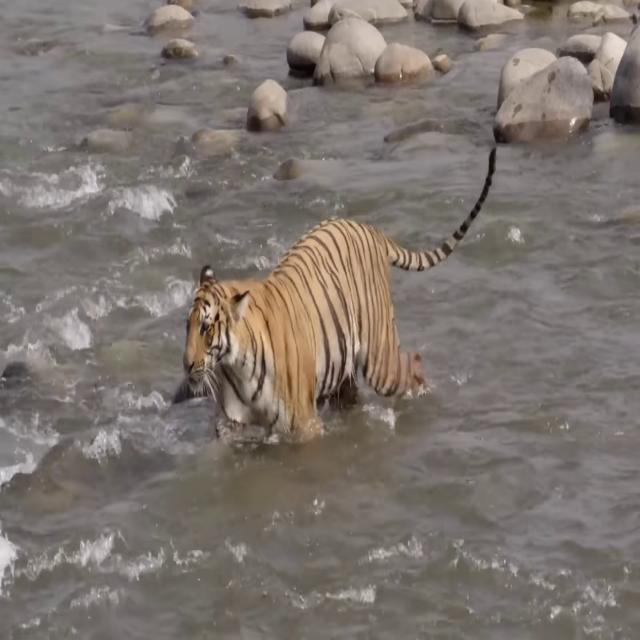tiger: (183, 146, 497, 441)
